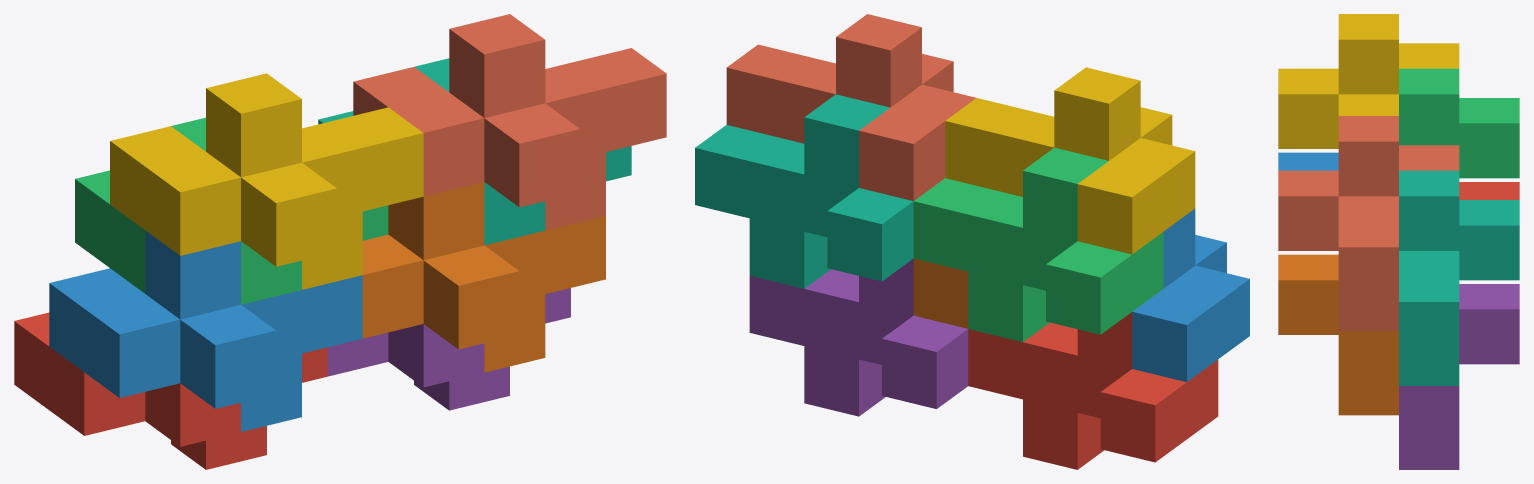
Rendered from tiling.obj.
3 renders of one model, left to right at view 1: azimuth 30°, elevation 25°; view 2: azimuth 150°, elevation 25°; view 3: azimuth 270°, elevation 25°, orthographic. The views are drawn at different scales.
Parts seen in each view (by area): view 1: copy_1_domain_4, copy_1_domain_8, copy_1_domain_2, copy_1_domain_6, copy_1_domain_1, copy_1_domain_3, copy_1_domain_5, copy_1_domain_7; view 2: copy_1_domain_3, copy_1_domain_7, copy_1_domain_4, copy_1_domain_8, copy_1_domain_1, copy_1_domain_5, copy_1_domain_2, copy_1_domain_6; view 3: copy_1_domain_8, copy_1_domain_7, copy_1_domain_4, copy_1_domain_6, copy_1_domain_5, copy_1_domain_3, copy_1_domain_2, copy_1_domain_1.
Part boxes in pixels (bbox=[...]): copy_1_domain_4: bbox=[110, 73, 423, 289]; copy_1_domain_8: bbox=[353, 14, 666, 230]; copy_1_domain_2: bbox=[49, 230, 362, 431]; copy_1_domain_6: bbox=[362, 182, 605, 372]; copy_1_domain_1: bbox=[14, 312, 327, 469]; copy_1_domain_3: bbox=[75, 117, 388, 304]; copy_1_domain_5: bbox=[327, 288, 570, 410]; copy_1_domain_7: bbox=[318, 58, 631, 245]; copy_1_domain_3: bbox=[913, 147, 1163, 342]; copy_1_domain_7: bbox=[695, 94, 913, 288]; copy_1_domain_4: bbox=[945, 67, 1195, 254]; copy_1_domain_8: bbox=[726, 14, 976, 200]; copy_1_domain_1: bbox=[968, 312, 1218, 469]; copy_1_domain_5: bbox=[749, 258, 968, 416]; copy_1_domain_2: bbox=[1132, 208, 1249, 382]; copy_1_domain_6: bbox=[913, 258, 968, 328]; copy_1_domain_8: bbox=[1278, 116, 1459, 331]; copy_1_domain_7: bbox=[1399, 170, 1519, 385]; copy_1_domain_4: bbox=[1278, 14, 1459, 148]; copy_1_domain_6: bbox=[1278, 254, 1398, 415]; copy_1_domain_5: bbox=[1399, 284, 1519, 469]; copy_1_domain_3: bbox=[1399, 68, 1519, 178]; copy_1_domain_2: bbox=[1278, 152, 1338, 170]; copy_1_domain_1: bbox=[1459, 182, 1519, 199].
Bounding box in the file's own units: 9 × 6 × 4.
